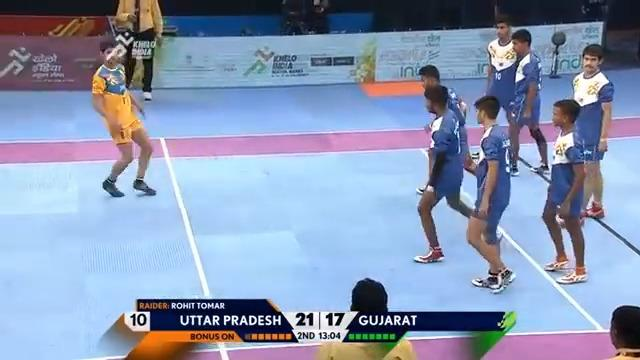Player: (412, 83, 483, 263), (90, 43, 156, 197), (465, 94, 516, 293), (559, 43, 614, 222), (541, 98, 588, 284), (314, 277, 417, 359), (415, 64, 470, 195), (506, 28, 550, 176), (483, 19, 521, 175), (114, 0, 163, 100)
referee: (112, 11, 137, 88), (278, 0, 329, 35)
